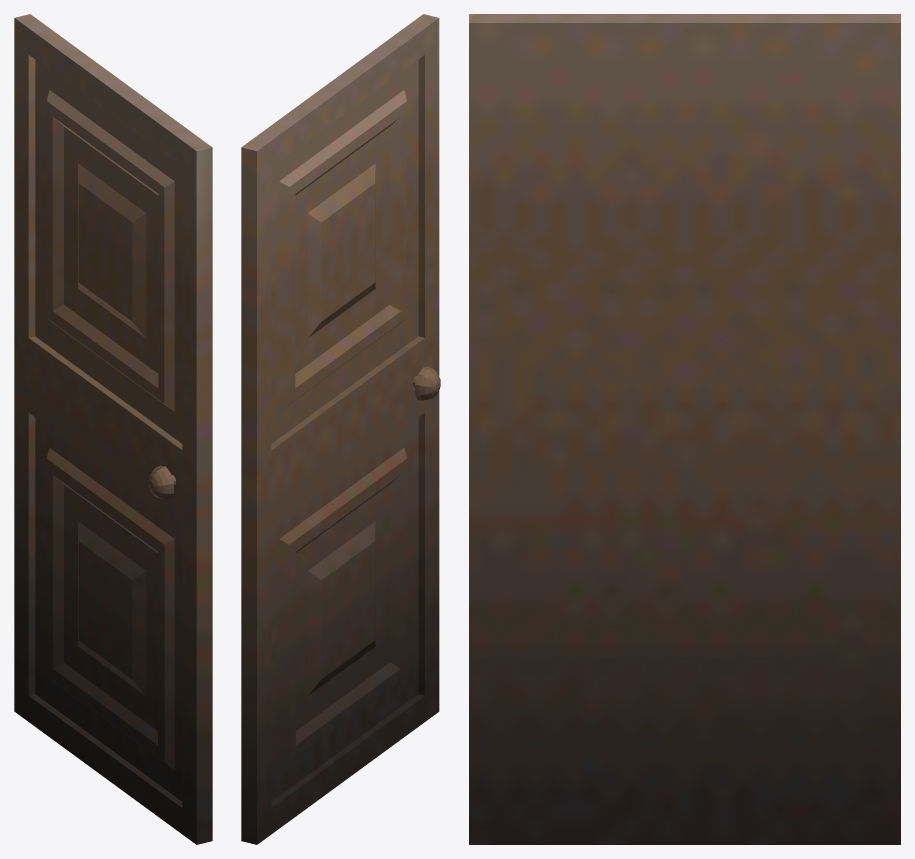
File: Door_Mdl.fbx
3 views of the same model, side by side, from view 1: azimuth 30°, elevation 25°; view 2: azimuth 150°, elevation 25°; view 3: azimuth 270°, elevation 25° (orthographic). The views are drawn at different scales.
Parts seen in each view (by area): view 1: Door_Mdl; view 2: Door_Mdl; view 3: Door_Mdl.
Part boxes in pixels (<box>): Door_Mdl: <box>14,14,212,844</box>; Door_Mdl: <box>241,14,440,844</box>; Door_Mdl: <box>469,14,900,844</box>.
Bounding box in the file's own units: 0.1226 × 2.1 × 1.
Materials: 1 (1 with a texture image).
